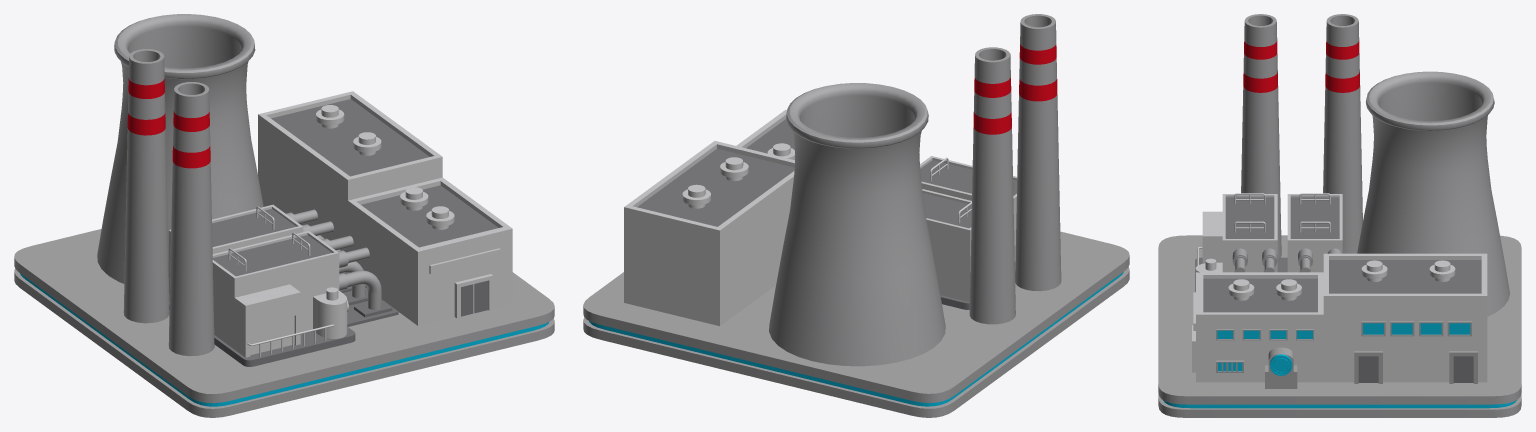
Rendered from 热源模型.glb.
3 renders of one model, left to right at view 1: azimuth 30°, elevation 25°; view 2: azimuth 150°, elevation 25°; view 3: azimuth 270°, elevation 25°, orthographic. The views are drawn at different scales.
Visible parts, largest first — view 1: SM_ReYuan; view 2: SM_ReYuan; view 3: SM_ReYuan.
Part boxes in pixels (x1,y1,x2,y2): SM_ReYuan: (14,14,554,417); SM_ReYuan: (583,14,1129,417); SM_ReYuan: (1158,14,1521,417).
Bounding box in the file's own units: 0.1845 × 0.137 × 0.1761.
